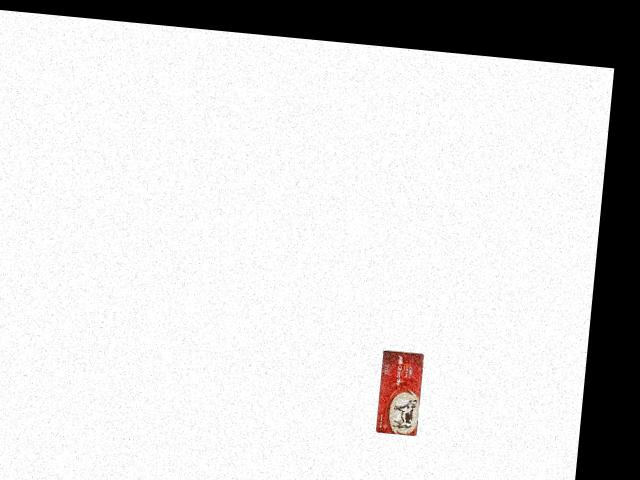chocolate: (373, 347, 424, 436)
